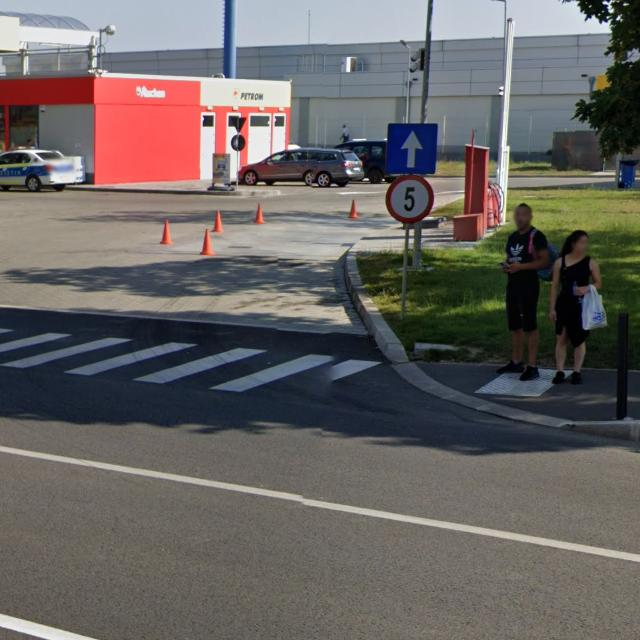forb_speed_over_5: (386, 174, 434, 223)
info_one_way_traffic: (386, 123, 438, 175)
